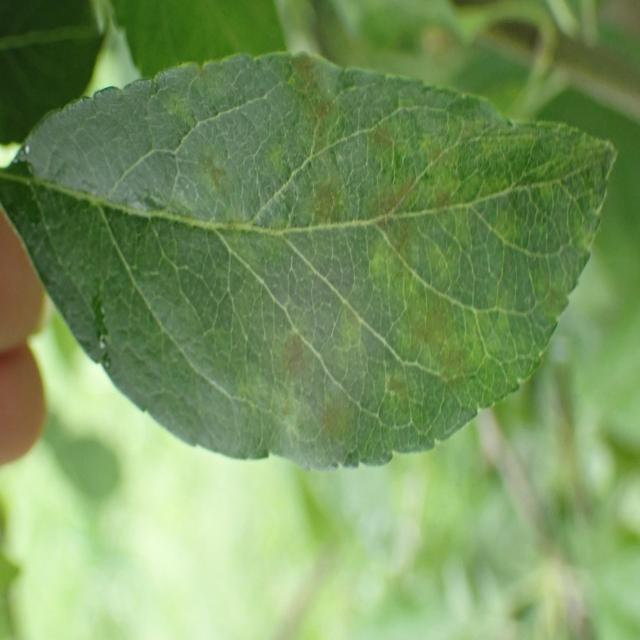scab: (96, 51, 550, 448)
